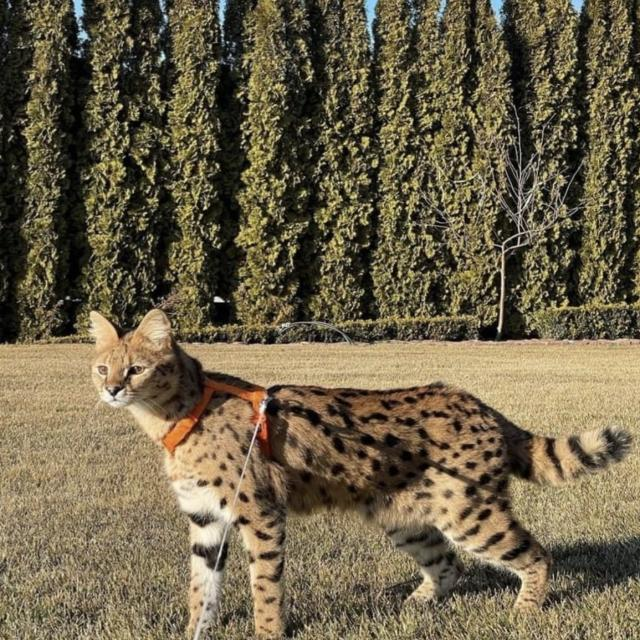Savannah: (85, 304, 634, 640)
